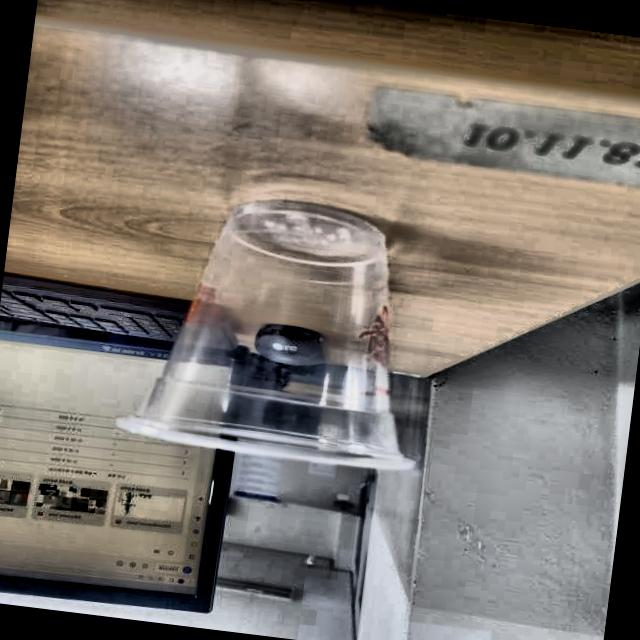plastic cup: (110, 184, 448, 474)
